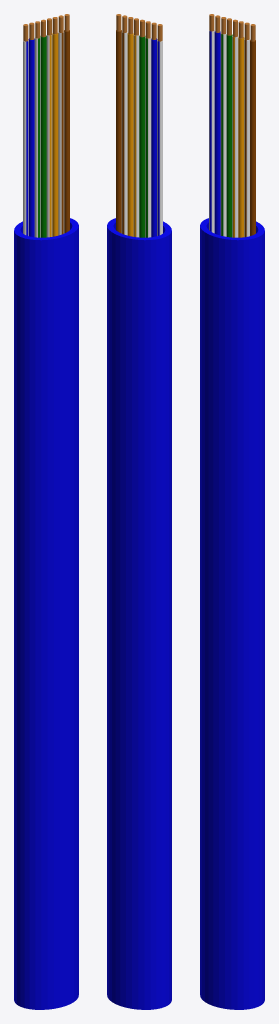
File: Unbundled Ethernet Cable.fbx
3 renders of one model, left to right at view 1: azimuth 30°, elevation 25°; view 2: azimuth 150°, elevation 25°; view 3: azimuth 330°, elevation 25°, orthographic.
Parts seen in each view (by area): view 1: Main Cable, Brown/White, Orange, Orange/White, Green, Green/White, Brown, Blue, Blue/White; view 2: Main Cable, Brown/White, Orange, Orange/White, Green, Green/White, Brown, Blue, Blue/White; view 3: Main Cable, Blue, Green/White, Green, Orange/White, Orange, Blue/White, Brown/White, Brown.
Part boxes in pixels (x1,y1,x2,y2): Main Cable: [14, 218, 78, 1009]; Brown/White: [58, 31, 64, 235]; Orange: [52, 33, 58, 236]; Orange/White: [46, 34, 52, 237]; Green: [40, 36, 46, 237]; Green/White: [34, 37, 40, 237]; Brown: [64, 30, 69, 233]; Blue: [28, 38, 34, 237]; Blue/White: [23, 40, 28, 235]; Main Cable: [107, 218, 171, 1009]; Brown/White: [121, 31, 127, 235]; Orange: [127, 33, 133, 236]; Orange/White: [133, 34, 139, 237]; Green: [139, 36, 145, 237]; Green/White: [145, 37, 151, 237]; Brown: [116, 30, 121, 233]; Blue: [151, 38, 157, 237]; Blue/White: [157, 40, 162, 235]; Main Cable: [200, 218, 264, 1009]; Blue: [214, 31, 220, 235]; Green/White: [220, 33, 226, 236]; Green: [226, 34, 232, 237]; Orange/White: [232, 36, 238, 237]; Orange: [238, 37, 244, 237]; Blue/White: [209, 30, 214, 233]; Brown/White: [244, 38, 250, 237]; Brown: [250, 40, 255, 235].
Size of the model in its own units: 80 by 1270 by 64.
